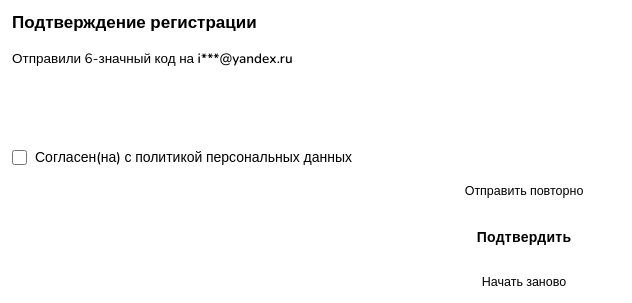
Test: Яндекс (email фиксирован) › повторная отправка — тот же ticket без адреса, таймер заново
This screenshot has width=632, height=303.
Click the button "Отправить повторно".
click(524, 190)  # box [465,182,583,200]
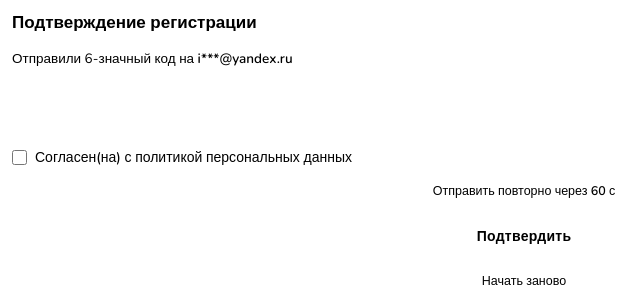
Expected: the text "Отправить повторно через 60 с" is shown, [433,182,615,198]
